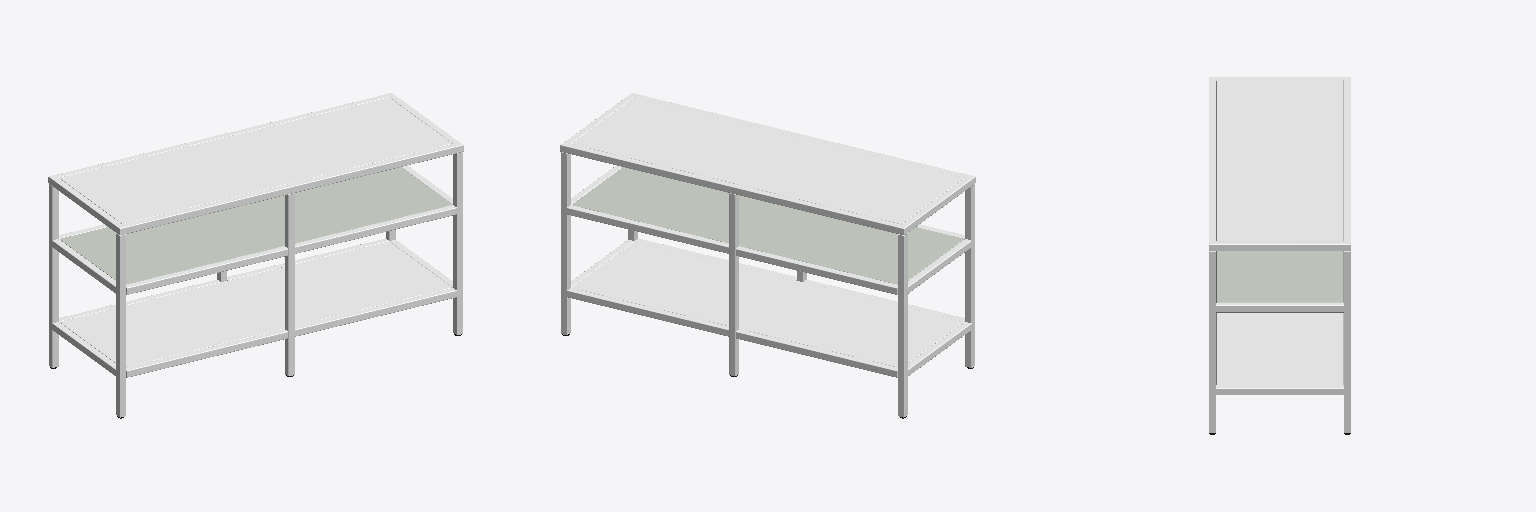
Rendered from IKE160190.obj.
3 renders of one model, left to right at view 1: azimuth 30°, elevation 25°; view 2: azimuth 150°, elevation 25°; view 3: azimuth 270°, elevation 25°, orthographic.
Parts seen in each view (by area): view 1: Revit_000252_01, ChamferBox003; view 2: Revit_000252_01, ChamferBox003; view 3: Revit_000252_01, ChamferBox003.
Part boxes in pixels (left/top/right/bottom): Revit_000252_01: left=48, top=93, right=463, bottom=417; ChamferBox003: left=60, top=167, right=451, bottom=284; Revit_000252_01: left=560, top=93, right=975, bottom=417; ChamferBox003: left=572, top=167, right=963, bottom=284; Revit_000252_01: left=1209, top=77, right=1350, bottom=432; ChamferBox003: left=1216, top=251, right=1343, bottom=302.
Size of the model in its own units: 1000 by 530 by 360.